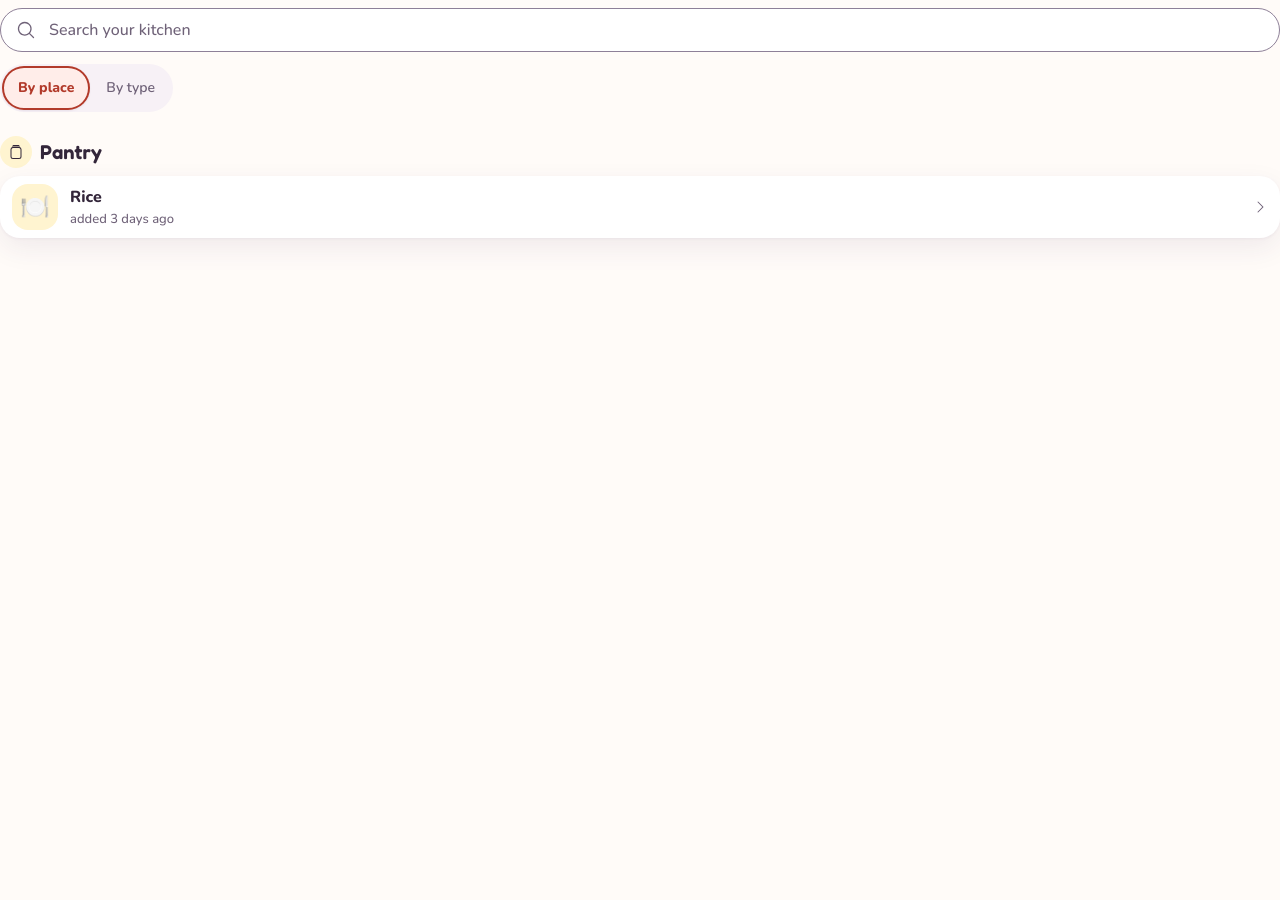
Test: Setting a level in the edit sheet › a refused Undo says so in place
Click the button with aria-label "Edit rice" at (86,197), box x1=70 y1=186 x2=102 y2=208
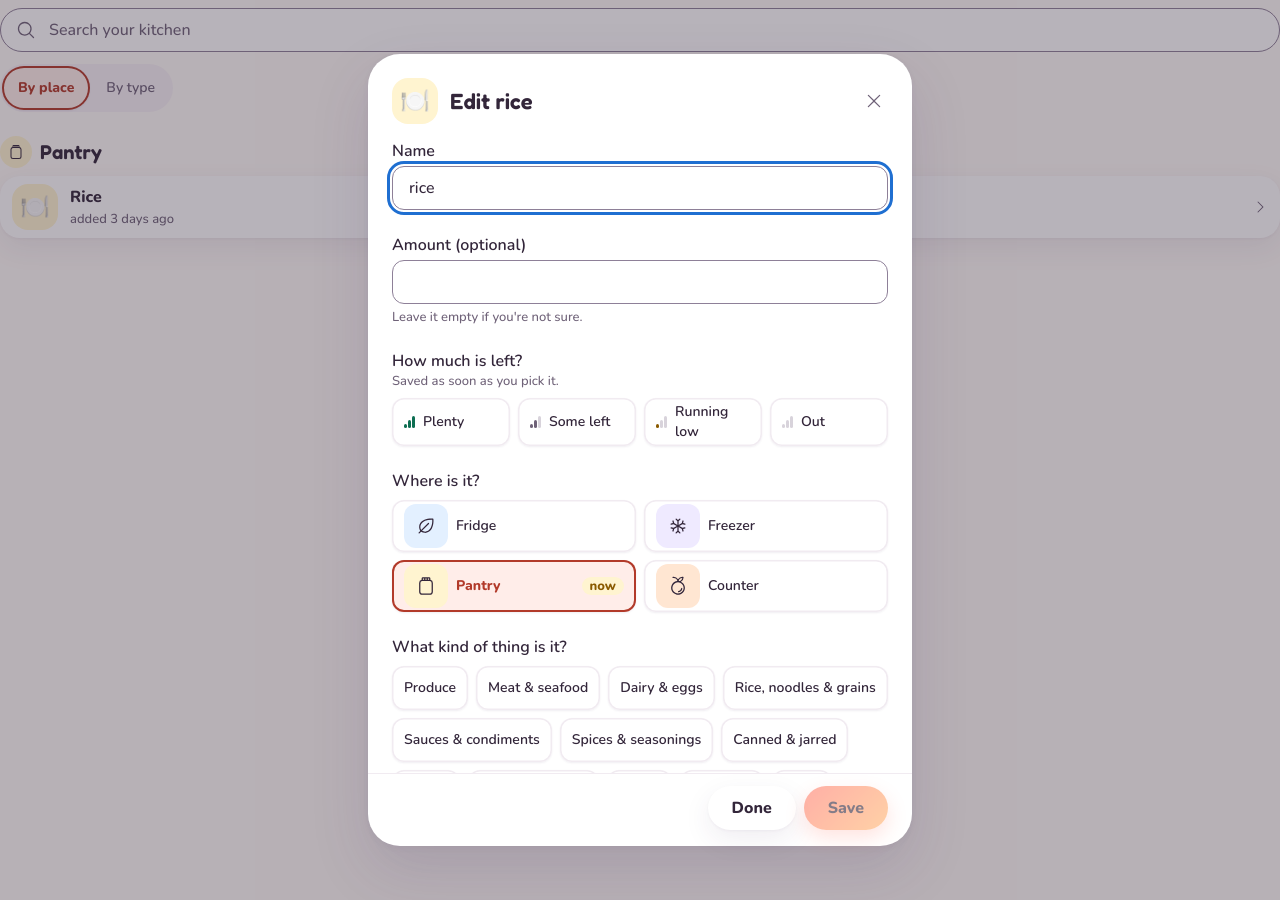
Click the button "Some left" at (577,422), box x1=518 y1=398 x2=636 y2=446
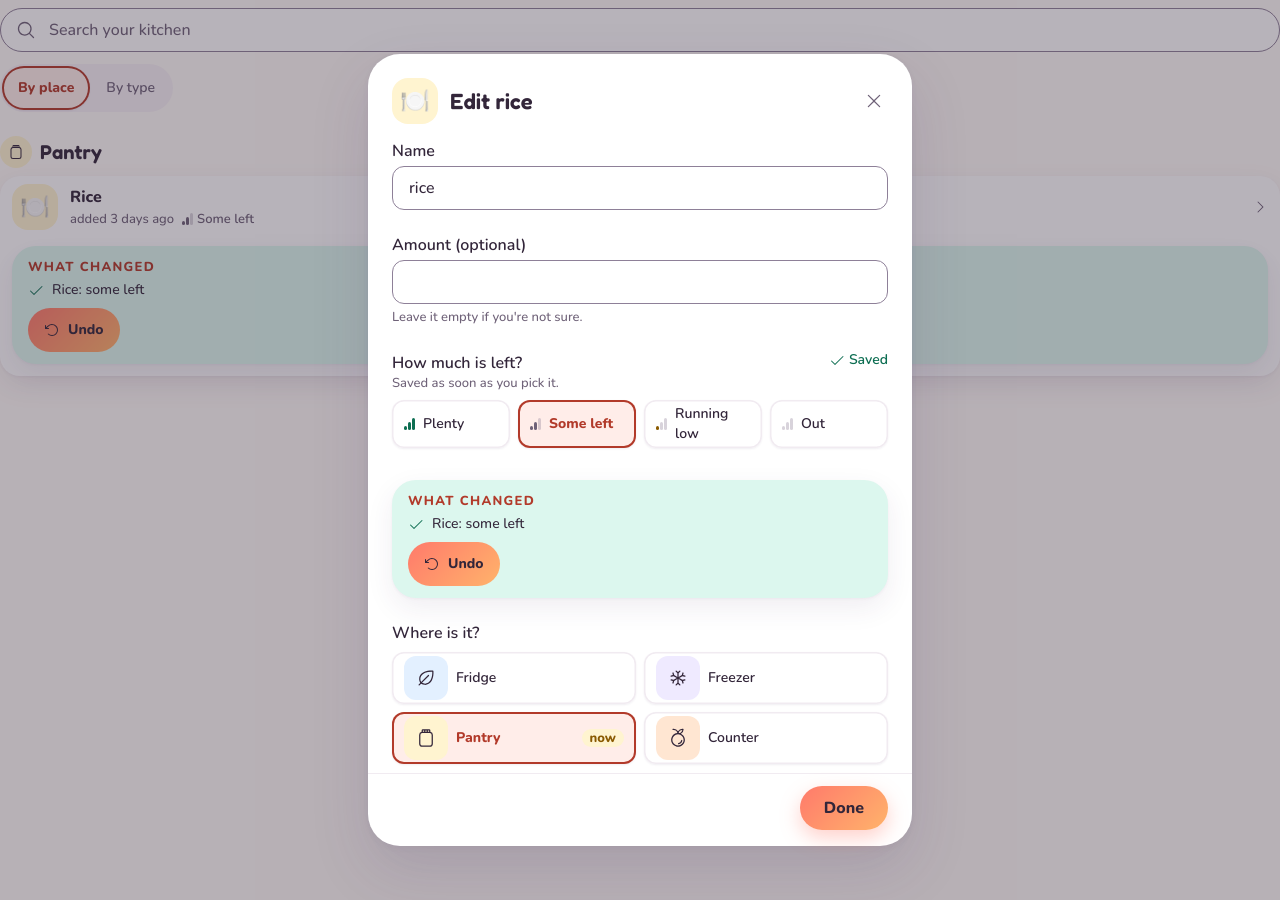
Click the button "Undo" at (454,564), box x1=408 y1=542 x2=500 y2=586
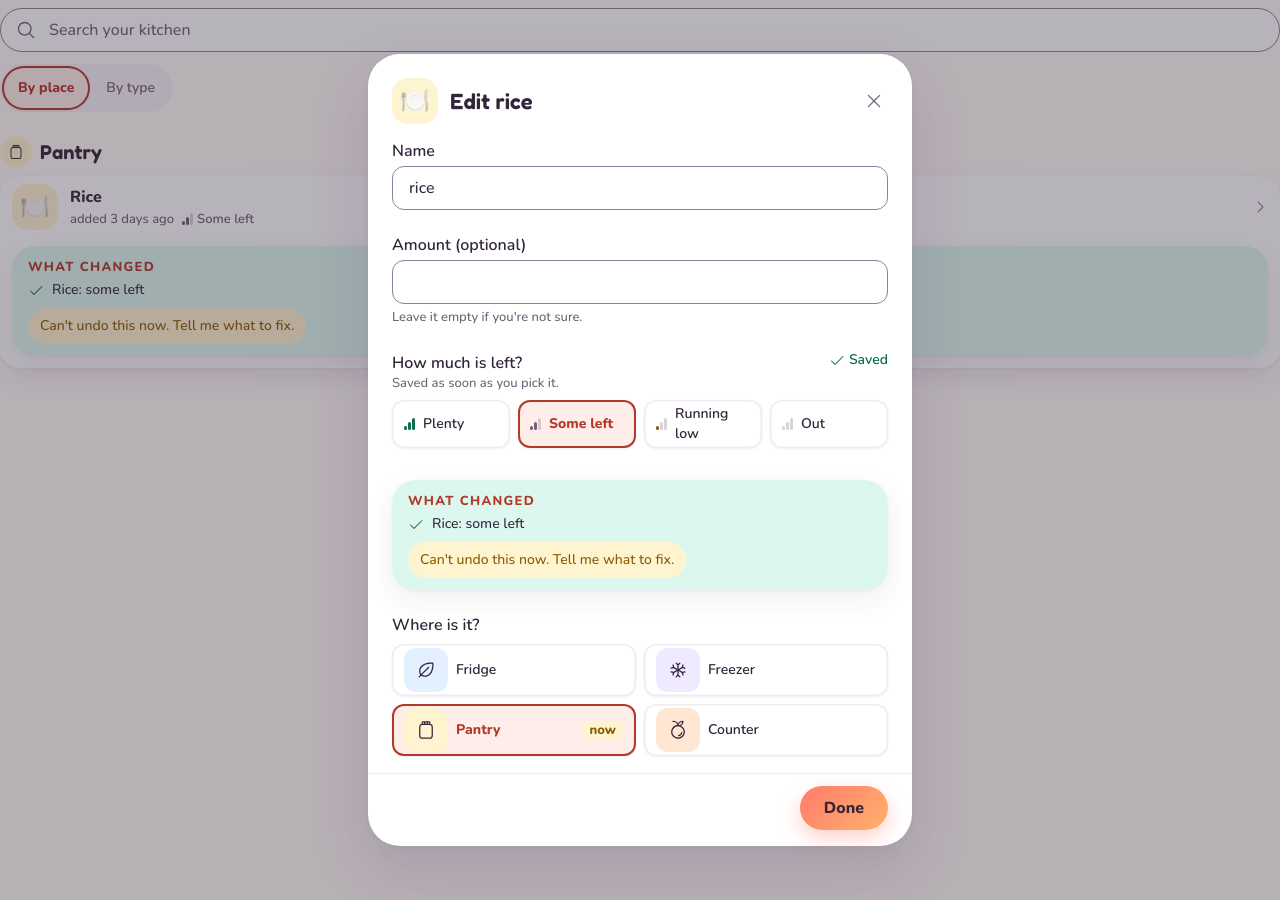
Check: the text "Can't undo this now. Tell me what to fix." is shown, box x1=408 y1=542 x2=686 y2=578
